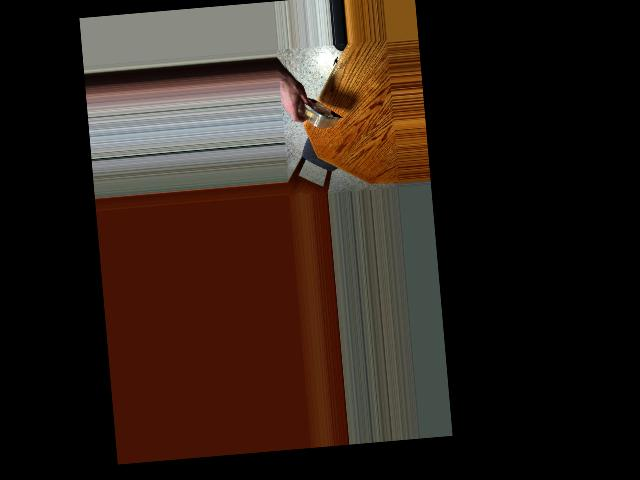cheese: (290, 80, 338, 136)
